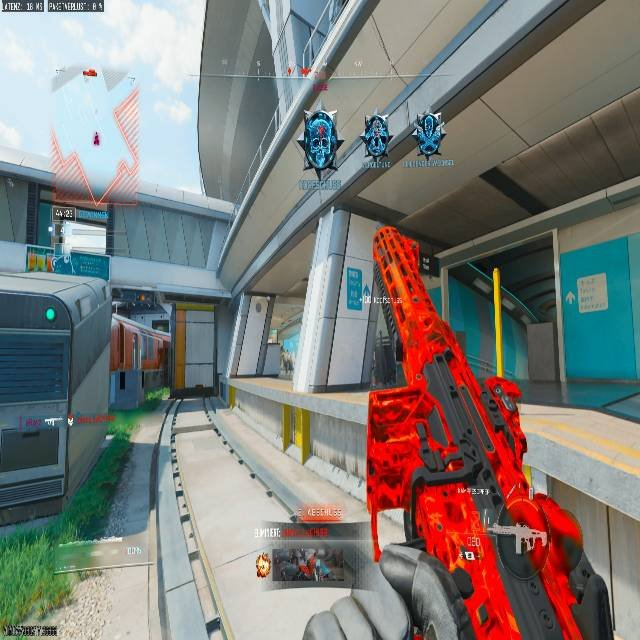player: (412, 112, 446, 157), (361, 115, 391, 164), (280, 350, 292, 375)
